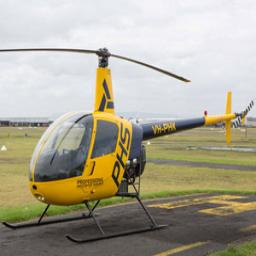helicopter: (2, 46, 256, 244)
